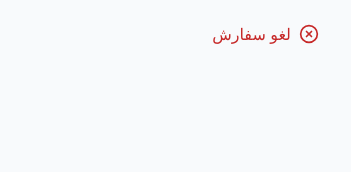
Test: the payment link’s lazy parts, when their code cannot load › the cancel dialog: said beside its button
Step 1. Click the button "لغو سفارش" → (266, 34), box top-left (192, 12), bottom-right (339, 56)
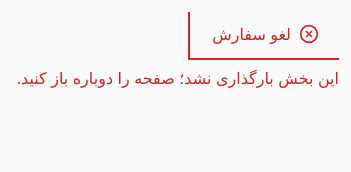
Expected: the message shows "این بخش بارگذاری نشد", top-left (16, 68), bottom-right (339, 88)
